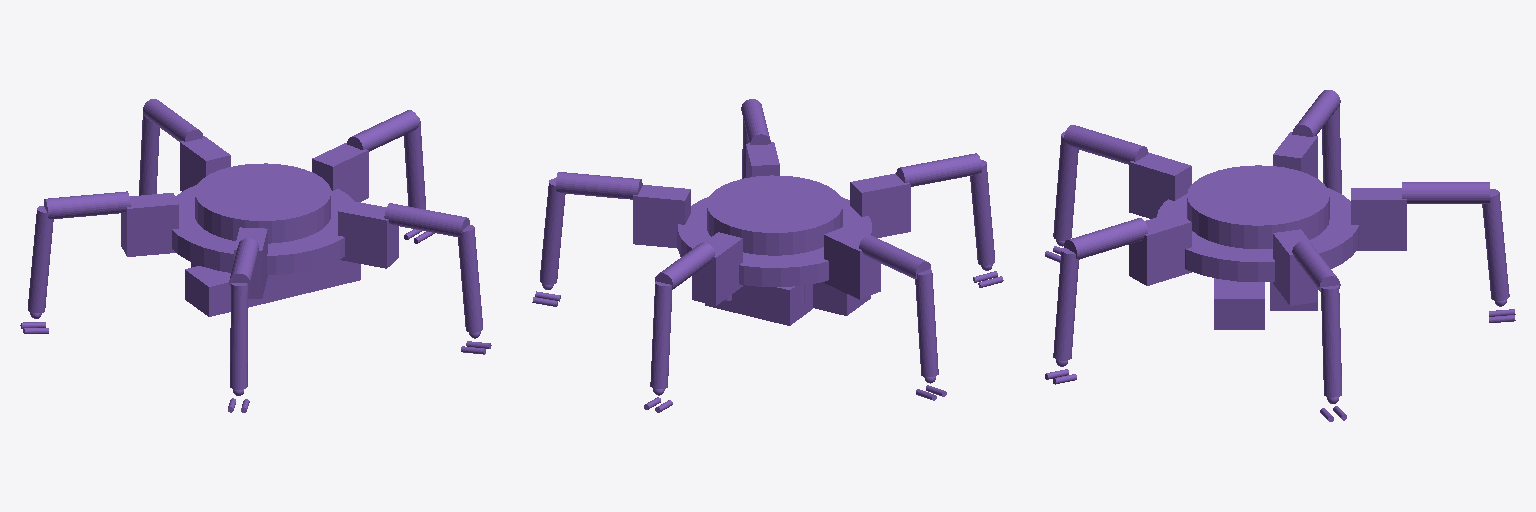
The robot description file, URDF, robot "pebble":
<?xml version="1.0"?>
<!-- AUTO-GENERATED from cad/params.yaml by generate_urdf.py — edit THAT, not this -->
<robot name="pebble">
  <material name="pebble"><color rgba="0.55 0.42 0.75 1"/></material>

  <link name="base_link">
    <inertial><origin xyz="-0.002210 -0.004630 -0.003180"/><mass value="1.5550"/><inertia ixx="4.726687e-03" ixy="-9.472300e-05" ixz="-1.576910e-04" iyy="5.545358e-03" iyz="-2.392510e-04" izz="6.800901e-03"/></inertial>
    <visual><origin xyz="0 0 0.018"/>
      <geometry><cylinder radius="0.1100" length="0.024"/></geometry>
      <material name="pebble"/></visual>
    <visual><origin xyz="0 0 0.044"/>
      <geometry><cylinder radius="0.0770" length="0.028"/></geometry>
      <material name="pebble"/></visual>
    <collision><origin xyz="0 0 0.018"/>
      <geometry><cylinder radius="0.1100" length="0.024"/></geometry></collision>
    <collision><origin xyz="0 0 0.044"/>
      <geometry><cylinder radius="0.0770" length="0.028"/></geometry></collision>
    <visual name="belly_tub"><origin xyz="0.001200 -0.020000 -0.036700"/>
      <geometry><box size="0.197400 0.054800 0.037400"/></geometry>
      <material name="pebble"/></visual>
    <collision name="belly_tub"><origin xyz="0.001200 -0.020000 -0.036700"/>
      <geometry><box size="0.197400 0.054800 0.037400"/></geometry></collision>
    <visual name="belly_shelf"><origin xyz="-0.001125 0.038250 -0.032200"/>
      <geometry><box size="0.110150 0.052100 0.044400"/></geometry>
      <material name="pebble"/></visual>
    <collision name="belly_shelf"><origin xyz="-0.001125 0.038250 -0.032200"/>
      <geometry><box size="0.110150 0.052100 0.044400"/></geometry></collision>
    <visual name="belly_shelf_post0"><origin xyz="-0.050000 0.034000 -0.024650"/>
      <geometry><cylinder radius="0.007000" length="0.029300"/></geometry>
      <material name="pebble"/></visual>
    <collision name="belly_shelf_post0"><origin xyz="-0.050000 0.034000 -0.024650"/>
      <geometry><cylinder radius="0.007000" length="0.029300"/></geometry></collision>
    <visual name="belly_shelf_post1"><origin xyz="0.050000 0.034000 -0.024650"/>
      <geometry><cylinder radius="0.007000" length="0.029300"/></geometry>
      <material name="pebble"/></visual>
    <collision name="belly_shelf_post1"><origin xyz="0.050000 0.034000 -0.024650"/>
      <geometry><cylinder radius="0.007000" length="0.029300"/></geometry></collision>
    <visual name="belly_shelf_post2"><origin xyz="0.026000 0.064000 -0.024650"/>
      <geometry><cylinder radius="0.007000" length="0.029300"/></geometry>
      <material name="pebble"/></visual>
    <collision name="belly_shelf_post2"><origin xyz="0.026000 0.064000 -0.024650"/>
      <geometry><cylinder radius="0.007000" length="0.029300"/></geometry></collision>
  </link>

  
    <link name="coxa0">
      <inertial><origin xyz="0.020000 0.000000 0.030000"/><mass value="0.0839"/><inertia ixx="3.233e-05" ixy="0" ixz="0" iyy="5.034e-05" iyz="0" izz="3.233e-05"/></inertial>
      <visual><origin xyz="0.020 0 0.030"/>
        <geometry><box size="0.060 0.032 0.060"/></geometry>
        <material name="pebble"/></visual>
      <collision><origin xyz="0.020 0 0.030"/>
        <geometry><box size="0.060 0.032 0.060"/></geometry></collision>
    </link>
    <joint name="yaw0" type="revolute">
      <parent link="base_link"/><child link="coxa0"/>
      <origin xyz="6.735557395310442e-18 0.11 0"
              rpy="0 0 1.5707963267948966"/>
      <axis xyz="0 0 1"/>
      <limit lower="-0.698132" upper="0.698132"
             effort="2.9400" velocity="4.7"/>
      <dynamics damping="0.6255"/>
    </joint>

    <link name="femur0">
      <inertial><origin xyz="0.047500 0.000000 0.000000"/><mass value="0.0427"/><inertia ixx="3.074e-06" ixy="0" ixz="0" iyy="3.365e-05" iyz="0" izz="3.365e-05"/></inertial>
      <visual><origin xyz="0.0475 0 0" rpy="0 1.570796 0"/>
        <geometry><cylinder radius="0.012" length="0.0950"/></geometry>
        <material name="pebble"/></visual>
      <collision><origin xyz="0.0475 0 0" rpy="0 1.570796 0"/>
        <geometry><cylinder radius="0.012" length="0.0950"/></geometry></collision>
    </link>
    <joint name="hip0" type="revolute">
      <parent link="coxa0"/><child link="femur0"/>
      <origin xyz="0.0450 0 0.0610"/>
      <axis xyz="0 -1 0"/>
      <limit lower="-1.221730" upper="1.570796"
             effort="2.9400" velocity="4.7"/>
      <dynamics damping="0.6255"/>
    </joint>

    <link name="tibia0">
      <inertial><origin xyz="0.062100 0.000000 0.000000"/><mass value="0.0837"/><inertia ixx="4.185e-06" ixy="0" ixz="0" iyy="1.097e-04" iyz="0" izz="1.097e-04"/></inertial>
      <visual><origin xyz="0.0621 0 0" rpy="0 1.570796 0"/>
        <geometry><cylinder radius="0.010" length="0.1242"/></geometry>
        <material name="pebble"/></visual>
      <collision><origin xyz="0.0621 0 0" rpy="0 1.570796 0"/>
        <geometry><cylinder radius="0.010" length="0.1242"/></geometry></collision>
    </link>
    <joint name="knee0" type="revolute">
      <parent link="femur0"/><child link="tibia0"/>
      <origin xyz="0.0950 0 0"/>
      <axis xyz="0 -1 0"/>
      <limit lower="-2.617994" upper="-0.349066"
             effort="2.9400" velocity="4.7"/>
      <dynamics damping="0.6255"/>
    </joint>

    <link name="foot0">
      <inertial><origin xyz="-0.006500 0.000000 0.000000"/><mass value="0.043300000000000005"/><inertia ixx="6.642e-07" ixy="0" ixz="0" iyy="6.642e-07" iyz="0" izz="6.642e-07"/></inertial>  <!-- + fixed claw prong (MJCF parity) -->
      <visual><origin xyz="-0.0065 0 0"/><geometry><sphere radius="0.0065"/></geometry>
        <material name="pebble"/></visual>
      <visual><origin xyz="0.012 0.0075 0" rpy="0 0 0.28"/>
        <geometry><cylinder radius="0.0035" length="0.028"/></geometry>
        <material name="pebble"/></visual>
      <collision><origin xyz="-0.0065 0 0"/><geometry><sphere radius="0.0065"/></geometry></collision>
    </link>
    <joint name="foot_fix0" type="fixed">
      <parent link="tibia0"/><child link="foot0"/>
      <origin xyz="0.1350 0 0"/>
    </joint>

    <link name="claw0_link">
      <inertial><origin xyz="0.000000 0.000000 0.000000"/><mass value="0.004"/><inertia ixx="1.000e-07" ixy="0" ixz="0" iyy="1.000e-07" iyz="0" izz="1.000e-07"/></inertial>
      <visual><origin xyz="0.012 -0.0075 0" rpy="0 0 -0.28"/>
        <geometry><cylinder radius="0.0035" length="0.028"/></geometry>
        <material name="pebble"/></visual>
    </link>
    <joint name="claw0" type="revolute">
      <parent link="foot0"/><child link="claw0_link"/>
      <origin xyz="0 0 0"/>
      <axis xyz="0 0 1"/>
      <limit lower="0.000000" upper="0.959931"
             effort="0.2300" velocity="9.5"/>
      <dynamics damping="0.0242"/>
    </joint>
  
    <link name="coxa1">
      <inertial><origin xyz="0.020000 0.000000 0.030000"/><mass value="0.0839"/><inertia ixx="3.233e-05" ixy="0" ixz="0" iyy="5.034e-05" iyz="0" izz="3.233e-05"/></inertial>
      <visual><origin xyz="0.020 0 0.030"/>
        <geometry><box size="0.060 0.032 0.060"/></geometry>
        <material name="pebble"/></visual>
      <collision><origin xyz="0.020 0 0.030"/>
        <geometry><box size="0.060 0.032 0.060"/></geometry></collision>
    </link>
    <joint name="yaw1" type="revolute">
      <parent link="base_link"/><child link="coxa1"/>
      <origin xyz="-0.1046162167924669 0.033991869381244225 0"
              rpy="0 0 2.827433388230814"/>
      <axis xyz="0 0 1"/>
      <limit lower="-0.698132" upper="0.698132"
             effort="2.9400" velocity="4.7"/>
      <dynamics damping="0.6255"/>
    </joint>

    <link name="femur1">
      <inertial><origin xyz="0.047500 0.000000 0.000000"/><mass value="0.0427"/><inertia ixx="3.074e-06" ixy="0" ixz="0" iyy="3.365e-05" iyz="0" izz="3.365e-05"/></inertial>
      <visual><origin xyz="0.0475 0 0" rpy="0 1.570796 0"/>
        <geometry><cylinder radius="0.012" length="0.0950"/></geometry>
        <material name="pebble"/></visual>
      <collision><origin xyz="0.0475 0 0" rpy="0 1.570796 0"/>
        <geometry><cylinder radius="0.012" length="0.0950"/></geometry></collision>
    </link>
    <joint name="hip1" type="revolute">
      <parent link="coxa1"/><child link="femur1"/>
      <origin xyz="0.0450 0 0.0610"/>
      <axis xyz="0 -1 0"/>
      <limit lower="-1.221730" upper="1.570796"
             effort="2.9400" velocity="4.7"/>
      <dynamics damping="0.6255"/>
    </joint>

    <link name="tibia1">
      <inertial><origin xyz="0.062100 0.000000 0.000000"/><mass value="0.0837"/><inertia ixx="4.185e-06" ixy="0" ixz="0" iyy="1.097e-04" iyz="0" izz="1.097e-04"/></inertial>
      <visual><origin xyz="0.0621 0 0" rpy="0 1.570796 0"/>
        <geometry><cylinder radius="0.010" length="0.1242"/></geometry>
        <material name="pebble"/></visual>
      <collision><origin xyz="0.0621 0 0" rpy="0 1.570796 0"/>
        <geometry><cylinder radius="0.010" length="0.1242"/></geometry></collision>
    </link>
    <joint name="knee1" type="revolute">
      <parent link="femur1"/><child link="tibia1"/>
      <origin xyz="0.0950 0 0"/>
      <axis xyz="0 -1 0"/>
      <limit lower="-2.617994" upper="-0.349066"
             effort="2.9400" velocity="4.7"/>
      <dynamics damping="0.6255"/>
    </joint>

    <link name="foot1">
      <inertial><origin xyz="-0.006500 0.000000 0.000000"/><mass value="0.043300000000000005"/><inertia ixx="6.642e-07" ixy="0" ixz="0" iyy="6.642e-07" iyz="0" izz="6.642e-07"/></inertial>  <!-- + fixed claw prong (MJCF parity) -->
      <visual><origin xyz="-0.0065 0 0"/><geometry><sphere radius="0.0065"/></geometry>
        <material name="pebble"/></visual>
      <visual><origin xyz="0.012 0.0075 0" rpy="0 0 0.28"/>
        <geometry><cylinder radius="0.0035" length="0.028"/></geometry>
        <material name="pebble"/></visual>
      <collision><origin xyz="-0.0065 0 0"/><geometry><sphere radius="0.0065"/></geometry></collision>
    </link>
    <joint name="foot_fix1" type="fixed">
      <parent link="tibia1"/><child link="foot1"/>
      <origin xyz="0.1350 0 0"/>
    </joint>

    <link name="claw1_link">
      <inertial><origin xyz="0.000000 0.000000 0.000000"/><mass value="0.004"/><inertia ixx="1.000e-07" ixy="0" ixz="0" iyy="1.000e-07" iyz="0" izz="1.000e-07"/></inertial>
      <visual><origin xyz="0.012 -0.0075 0" rpy="0 0 -0.28"/>
        <geometry><cylinder radius="0.0035" length="0.028"/></geometry>
        <material name="pebble"/></visual>
    </link>
    <joint name="claw1" type="revolute">
      <parent link="foot1"/><child link="claw1_link"/>
      <origin xyz="0 0 0"/>
      <axis xyz="0 0 1"/>
      <limit lower="0.000000" upper="0.959931"
             effort="0.2300" velocity="9.5"/>
      <dynamics damping="0.0242"/>
    </joint>
  
    <link name="coxa2">
      <inertial><origin xyz="0.020000 0.000000 0.030000"/><mass value="0.0839"/><inertia ixx="3.233e-05" ixy="0" ixz="0" iyy="5.034e-05" iyz="0" izz="3.233e-05"/></inertial>
      <visual><origin xyz="0.020 0 0.030"/>
        <geometry><box size="0.060 0.032 0.060"/></geometry>
        <material name="pebble"/></visual>
      <collision><origin xyz="0.020 0 0.030"/>
        <geometry><box size="0.060 0.032 0.060"/></geometry></collision>
    </link>
    <joint name="yaw2" type="revolute">
      <parent link="base_link"/><child link="coxa2"/>
      <origin xyz="-0.06465637775217206 -0.0889918693812442 0"
              rpy="0 0 4.084070449666731"/>
      <axis xyz="0 0 1"/>
      <limit lower="-0.698132" upper="0.698132"
             effort="2.9400" velocity="4.7"/>
      <dynamics damping="0.6255"/>
    </joint>

    <link name="femur2">
      <inertial><origin xyz="0.047500 0.000000 0.000000"/><mass value="0.0427"/><inertia ixx="3.074e-06" ixy="0" ixz="0" iyy="3.365e-05" iyz="0" izz="3.365e-05"/></inertial>
      <visual><origin xyz="0.0475 0 0" rpy="0 1.570796 0"/>
        <geometry><cylinder radius="0.012" length="0.0950"/></geometry>
        <material name="pebble"/></visual>
      <collision><origin xyz="0.0475 0 0" rpy="0 1.570796 0"/>
        <geometry><cylinder radius="0.012" length="0.0950"/></geometry></collision>
    </link>
    <joint name="hip2" type="revolute">
      <parent link="coxa2"/><child link="femur2"/>
      <origin xyz="0.0450 0 0.0610"/>
      <axis xyz="0 -1 0"/>
      <limit lower="-1.221730" upper="1.570796"
             effort="2.9400" velocity="4.7"/>
      <dynamics damping="0.6255"/>
    </joint>

    <link name="tibia2">
      <inertial><origin xyz="0.062100 0.000000 0.000000"/><mass value="0.0837"/><inertia ixx="4.185e-06" ixy="0" ixz="0" iyy="1.097e-04" iyz="0" izz="1.097e-04"/></inertial>
      <visual><origin xyz="0.0621 0 0" rpy="0 1.570796 0"/>
        <geometry><cylinder radius="0.010" length="0.1242"/></geometry>
        <material name="pebble"/></visual>
      <collision><origin xyz="0.0621 0 0" rpy="0 1.570796 0"/>
        <geometry><cylinder radius="0.010" length="0.1242"/></geometry></collision>
    </link>
    <joint name="knee2" type="revolute">
      <parent link="femur2"/><child link="tibia2"/>
      <origin xyz="0.0950 0 0"/>
      <axis xyz="0 -1 0"/>
      <limit lower="-2.617994" upper="-0.349066"
             effort="2.9400" velocity="4.7"/>
      <dynamics damping="0.6255"/>
    </joint>

    <link name="foot2">
      <inertial><origin xyz="-0.006500 0.000000 0.000000"/><mass value="0.043300000000000005"/><inertia ixx="6.642e-07" ixy="0" ixz="0" iyy="6.642e-07" iyz="0" izz="6.642e-07"/></inertial>  <!-- + fixed claw prong (MJCF parity) -->
      <visual><origin xyz="-0.0065 0 0"/><geometry><sphere radius="0.0065"/></geometry>
        <material name="pebble"/></visual>
      <visual><origin xyz="0.012 0.0075 0" rpy="0 0 0.28"/>
        <geometry><cylinder radius="0.0035" length="0.028"/></geometry>
        <material name="pebble"/></visual>
      <collision><origin xyz="-0.0065 0 0"/><geometry><sphere radius="0.0065"/></geometry></collision>
    </link>
    <joint name="foot_fix2" type="fixed">
      <parent link="tibia2"/><child link="foot2"/>
      <origin xyz="0.1350 0 0"/>
    </joint>

    <link name="claw2_link">
      <inertial><origin xyz="0.000000 0.000000 0.000000"/><mass value="0.004"/><inertia ixx="1.000e-07" ixy="0" ixz="0" iyy="1.000e-07" iyz="0" izz="1.000e-07"/></inertial>
      <visual><origin xyz="0.012 -0.0075 0" rpy="0 0 -0.28"/>
        <geometry><cylinder radius="0.0035" length="0.028"/></geometry>
        <material name="pebble"/></visual>
    </link>
    <joint name="claw2" type="revolute">
      <parent link="foot2"/><child link="claw2_link"/>
      <origin xyz="0 0 0"/>
      <axis xyz="0 0 1"/>
      <limit lower="0.000000" upper="0.959931"
             effort="0.2300" velocity="9.5"/>
      <dynamics damping="0.0242"/>
    </joint>
  
    <link name="coxa3">
      <inertial><origin xyz="0.020000 0.000000 0.030000"/><mass value="0.0839"/><inertia ixx="3.233e-05" ixy="0" ixz="0" iyy="5.034e-05" iyz="0" izz="3.233e-05"/></inertial>
      <visual><origin xyz="0.020 0 0.030"/>
        <geometry><box size="0.060 0.032 0.060"/></geometry>
        <material name="pebble"/></visual>
      <collision><origin xyz="0.020 0 0.030"/>
        <geometry><box size="0.060 0.032 0.060"/></geometry></collision>
    </link>
    <joint name="yaw3" type="revolute">
      <parent link="base_link"/><child link="coxa3"/>
      <origin xyz="0.06465637775217202 -0.08899186938124423 0"
              rpy="0 0 5.340707511102648"/>
      <axis xyz="0 0 1"/>
      <limit lower="-0.698132" upper="0.698132"
             effort="2.9400" velocity="4.7"/>
      <dynamics damping="0.6255"/>
    </joint>

    <link name="femur3">
      <inertial><origin xyz="0.047500 0.000000 0.000000"/><mass value="0.0427"/><inertia ixx="3.074e-06" ixy="0" ixz="0" iyy="3.365e-05" iyz="0" izz="3.365e-05"/></inertial>
      <visual><origin xyz="0.0475 0 0" rpy="0 1.570796 0"/>
        <geometry><cylinder radius="0.012" length="0.0950"/></geometry>
        <material name="pebble"/></visual>
      <collision><origin xyz="0.0475 0 0" rpy="0 1.570796 0"/>
        <geometry><cylinder radius="0.012" length="0.0950"/></geometry></collision>
    </link>
    <joint name="hip3" type="revolute">
      <parent link="coxa3"/><child link="femur3"/>
      <origin xyz="0.0450 0 0.0610"/>
      <axis xyz="0 -1 0"/>
      <limit lower="-1.221730" upper="1.570796"
             effort="2.9400" velocity="4.7"/>
      <dynamics damping="0.6255"/>
    </joint>

    <link name="tibia3">
      <inertial><origin xyz="0.062100 0.000000 0.000000"/><mass value="0.0837"/><inertia ixx="4.185e-06" ixy="0" ixz="0" iyy="1.097e-04" iyz="0" izz="1.097e-04"/></inertial>
      <visual><origin xyz="0.0621 0 0" rpy="0 1.570796 0"/>
        <geometry><cylinder radius="0.010" length="0.1242"/></geometry>
        <material name="pebble"/></visual>
      <collision><origin xyz="0.0621 0 0" rpy="0 1.570796 0"/>
        <geometry><cylinder radius="0.010" length="0.1242"/></geometry></collision>
    </link>
    <joint name="knee3" type="revolute">
      <parent link="femur3"/><child link="tibia3"/>
      <origin xyz="0.0950 0 0"/>
      <axis xyz="0 -1 0"/>
      <limit lower="-2.617994" upper="-0.349066"
             effort="2.9400" velocity="4.7"/>
      <dynamics damping="0.6255"/>
    </joint>

    <link name="foot3">
      <inertial><origin xyz="-0.006500 0.000000 0.000000"/><mass value="0.043300000000000005"/><inertia ixx="6.642e-07" ixy="0" ixz="0" iyy="6.642e-07" iyz="0" izz="6.642e-07"/></inertial>  <!-- + fixed claw prong (MJCF parity) -->
      <visual><origin xyz="-0.0065 0 0"/><geometry><sphere radius="0.0065"/></geometry>
        <material name="pebble"/></visual>
      <visual><origin xyz="0.012 0.0075 0" rpy="0 0 0.28"/>
        <geometry><cylinder radius="0.0035" length="0.028"/></geometry>
        <material name="pebble"/></visual>
      <collision><origin xyz="-0.0065 0 0"/><geometry><sphere radius="0.0065"/></geometry></collision>
    </link>
    <joint name="foot_fix3" type="fixed">
      <parent link="tibia3"/><child link="foot3"/>
      <origin xyz="0.1350 0 0"/>
    </joint>

    <link name="claw3_link">
      <inertial><origin xyz="0.000000 0.000000 0.000000"/><mass value="0.004"/><inertia ixx="1.000e-07" ixy="0" ixz="0" iyy="1.000e-07" iyz="0" izz="1.000e-07"/></inertial>
      <visual><origin xyz="0.012 -0.0075 0" rpy="0 0 -0.28"/>
        <geometry><cylinder radius="0.0035" length="0.028"/></geometry>
        <material name="pebble"/></visual>
    </link>
    <joint name="claw3" type="revolute">
      <parent link="foot3"/><child link="claw3_link"/>
      <origin xyz="0 0 0"/>
      <axis xyz="0 0 1"/>
      <limit lower="0.000000" upper="0.959931"
             effort="0.2300" velocity="9.5"/>
      <dynamics damping="0.0242"/>
    </joint>
  
    <link name="coxa4">
      <inertial><origin xyz="0.020000 0.000000 0.030000"/><mass value="0.0839"/><inertia ixx="3.233e-05" ixy="0" ixz="0" iyy="5.034e-05" iyz="0" izz="3.233e-05"/></inertial>
      <visual><origin xyz="0.020 0 0.030"/>
        <geometry><box size="0.060 0.032 0.060"/></geometry>
        <material name="pebble"/></visual>
      <collision><origin xyz="0.020 0 0.030"/>
        <geometry><box size="0.060 0.032 0.060"/></geometry></collision>
    </link>
    <joint name="yaw4" type="revolute">
      <parent link="base_link"/><child link="coxa4"/>
      <origin xyz="0.1046162167924669 0.03399186938124419 0"
              rpy="0 0 6.5973445725385655"/>
      <axis xyz="0 0 1"/>
      <limit lower="-0.698132" upper="0.698132"
             effort="2.9400" velocity="4.7"/>
      <dynamics damping="0.6255"/>
    </joint>

    <link name="femur4">
      <inertial><origin xyz="0.047500 0.000000 0.000000"/><mass value="0.0427"/><inertia ixx="3.074e-06" ixy="0" ixz="0" iyy="3.365e-05" iyz="0" izz="3.365e-05"/></inertial>
      <visual><origin xyz="0.0475 0 0" rpy="0 1.570796 0"/>
        <geometry><cylinder radius="0.012" length="0.0950"/></geometry>
        <material name="pebble"/></visual>
      <collision><origin xyz="0.0475 0 0" rpy="0 1.570796 0"/>
        <geometry><cylinder radius="0.012" length="0.0950"/></geometry></collision>
    </link>
    <joint name="hip4" type="revolute">
      <parent link="coxa4"/><child link="femur4"/>
      <origin xyz="0.0450 0 0.0610"/>
      <axis xyz="0 -1 0"/>
      <limit lower="-1.221730" upper="1.570796"
             effort="2.9400" velocity="4.7"/>
      <dynamics damping="0.6255"/>
    </joint>

    <link name="tibia4">
      <inertial><origin xyz="0.062100 0.000000 0.000000"/><mass value="0.0837"/><inertia ixx="4.185e-06" ixy="0" ixz="0" iyy="1.097e-04" iyz="0" izz="1.097e-04"/></inertial>
      <visual><origin xyz="0.0621 0 0" rpy="0 1.570796 0"/>
        <geometry><cylinder radius="0.010" length="0.1242"/></geometry>
        <material name="pebble"/></visual>
      <collision><origin xyz="0.0621 0 0" rpy="0 1.570796 0"/>
        <geometry><cylinder radius="0.010" length="0.1242"/></geometry></collision>
    </link>
    <joint name="knee4" type="revolute">
      <parent link="femur4"/><child link="tibia4"/>
      <origin xyz="0.0950 0 0"/>
      <axis xyz="0 -1 0"/>
      <limit lower="-2.617994" upper="-0.349066"
             effort="2.9400" velocity="4.7"/>
      <dynamics damping="0.6255"/>
    </joint>

    <link name="foot4">
      <inertial><origin xyz="-0.006500 0.000000 0.000000"/><mass value="0.043300000000000005"/><inertia ixx="6.642e-07" ixy="0" ixz="0" iyy="6.642e-07" iyz="0" izz="6.642e-07"/></inertial>  <!-- + fixed claw prong (MJCF parity) -->
      <visual><origin xyz="-0.0065 0 0"/><geometry><sphere radius="0.0065"/></geometry>
        <material name="pebble"/></visual>
      <visual><origin xyz="0.012 0.0075 0" rpy="0 0 0.28"/>
        <geometry><cylinder radius="0.0035" length="0.028"/></geometry>
        <material name="pebble"/></visual>
      <collision><origin xyz="-0.0065 0 0"/><geometry><sphere radius="0.0065"/></geometry></collision>
    </link>
    <joint name="foot_fix4" type="fixed">
      <parent link="tibia4"/><child link="foot4"/>
      <origin xyz="0.1350 0 0"/>
    </joint>

    <link name="claw4_link">
      <inertial><origin xyz="0.000000 0.000000 0.000000"/><mass value="0.004"/><inertia ixx="1.000e-07" ixy="0" ixz="0" iyy="1.000e-07" iyz="0" izz="1.000e-07"/></inertial>
      <visual><origin xyz="0.012 -0.0075 0" rpy="0 0 -0.28"/>
        <geometry><cylinder radius="0.0035" length="0.028"/></geometry>
        <material name="pebble"/></visual>
    </link>
    <joint name="claw4" type="revolute">
      <parent link="foot4"/><child link="claw4_link"/>
      <origin xyz="0 0 0"/>
      <axis xyz="0 0 1"/>
      <limit lower="0.000000" upper="0.959931"
             effort="0.2300" velocity="9.5"/>
      <dynamics damping="0.0242"/>
    </joint>
  

          
</robot>

--- Facts derived from the render (not from the file) ---
Views: 3 orthographic renders of the robot side by side, from view 1: azimuth 30°, elevation 25°; view 2: azimuth 150°, elevation 25°; view 3: azimuth 270°, elevation 25°.
Robot: pebble — 26 links, 25 joints (20 revolute, 5 fixed); root link base_link; default pose: joints at zero except 5 at the middle of their limits (knee0 = -1.48, knee1 = -1.48, knee2 = -1.48, knee3 = -1.48, knee4 = -1.48).
Links seen in each view (by area): view 1: base_link, coxa3, coxa1, coxa4, tibia2, tibia3, coxa0, tibia1, femur1, femur3, femur4, tibia4 (+4 smaller); view 2: base_link, coxa4, coxa2, coxa1, coxa0, tibia0, tibia1, femur4, tibia4, femur2, tibia2, femur1 (+3 smaller); view 3: base_link, coxa3, coxa0, coxa2, coxa4, tibia4, tibia3, tibia0, femur0, tibia2, femur3, femur2 (+4 smaller).
Boxes of the visible links, x1=… form: base_link: x1=172, y1=163, x2=360, y2=316; coxa3: x1=338, y1=201, x2=398, y2=268; coxa1: x1=121, y1=193, x2=178, y2=256; coxa4: x1=312, y1=143, x2=368, y2=201; tibia2: x1=230, y1=283, x2=248, y2=389; tibia3: x1=458, y1=225, x2=482, y2=332; coxa0: x1=180, y1=136, x2=230, y2=191; tibia1: x1=28, y1=206, x2=53, y2=312; femur1: x1=44, y1=191, x2=130, y2=218; femur3: x1=384, y1=203, x2=469, y2=236; femur4: x1=347, y1=110, x2=418, y2=151; tibia4: x1=404, y1=117, x2=425, y2=209; base_link: x1=677, y1=175, x2=871, y2=325; coxa4: x1=633, y1=185, x2=690, y2=247; coxa2: x1=850, y1=173, x2=910, y2=237; coxa1: x1=824, y1=227, x2=880, y2=299; coxa0: x1=692, y1=232, x2=742, y2=305; tibia0: x1=650, y1=281, x2=671, y2=388; tibia1: x1=915, y1=269, x2=938, y2=376; femur4: x1=556, y1=172, x2=642, y2=199; tibia4: x1=540, y1=178, x2=565, y2=284; femur2: x1=896, y1=153, x2=981, y2=186; tibia2: x1=970, y1=160, x2=994, y2=265; femur1: x1=859, y1=235, x2=930, y2=278; base_link: x1=1157, y1=165, x2=1358, y2=329; coxa3: x1=1129, y1=212, x2=1191, y2=285; coxa0: x1=1351, y1=188, x2=1406, y2=250; coxa2: x1=1129, y1=152, x2=1191, y2=218; coxa4: x1=1273, y1=229, x2=1317, y2=305; tibia4: x1=1321, y1=285, x2=1341, y2=397; tibia3: x1=1053, y1=248, x2=1078, y2=360; tibia0: x1=1482, y1=189, x2=1509, y2=300; femur0: x1=1402, y1=182, x2=1489, y2=203; tibia2: x1=1053, y1=131, x2=1078, y2=240; femur3: x1=1064, y1=218, x2=1147, y2=259; femur2: x1=1064, y1=125, x2=1147, y2=164.
Bounding box of the posed robot: 0.5333 × 0.5074 × 0.1631 m (x, y, z).
Geometry: primitives only (box / cylinder / sphere), no mesh files.
